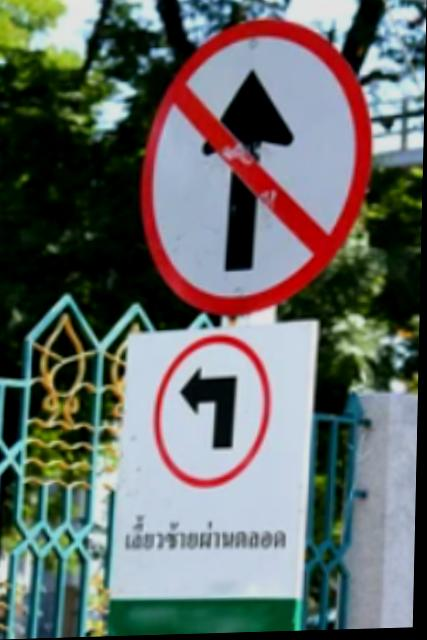not_go_straight: (132, 17, 374, 319)
